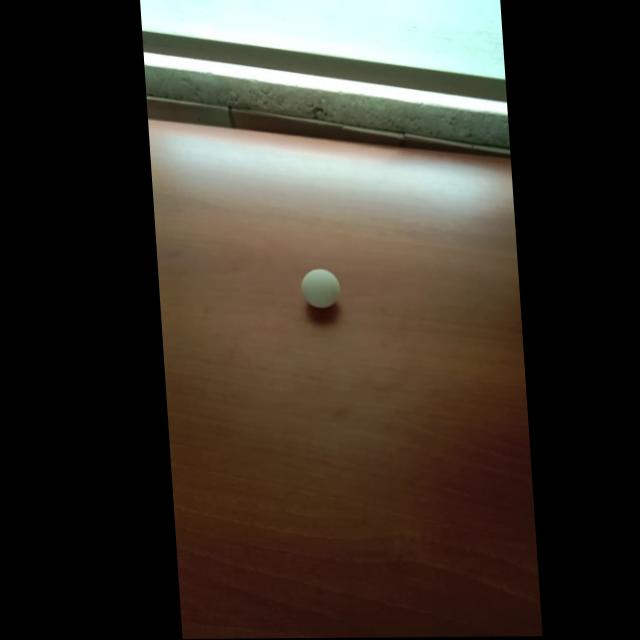white ball: (300, 268, 341, 308)
